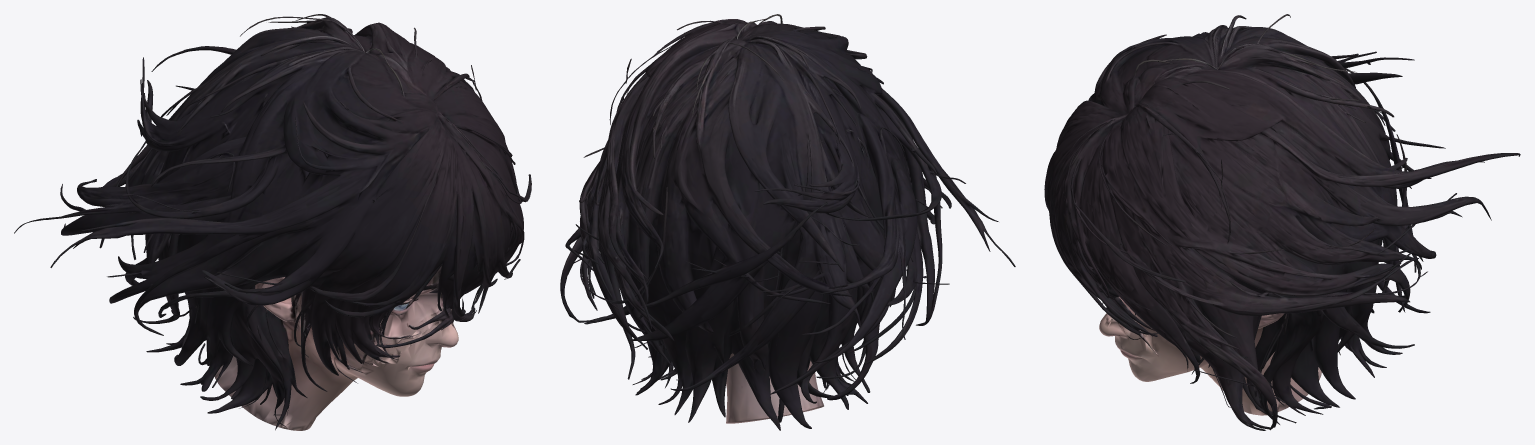
File: head.glb
3 views of the same model, side by side, from view 1: azimuth 30°, elevation 25°; view 2: azimuth 150°, elevation 25°; view 3: azimuth 270°, elevation 25° (orthographic). The views are drawn at different scales.
Visible parts, largest first — view 1: tripo_node_9e7974b8-3f49-4e68-8bba-398b5cad29e0; view 2: tripo_node_9e7974b8-3f49-4e68-8bba-398b5cad29e0; view 3: tripo_node_9e7974b8-3f49-4e68-8bba-398b5cad29e0.
Boxes of the visible parts, box(x1,y1,x2,y2) form: tripo_node_9e7974b8-3f49-4e68-8bba-398b5cad29e0: box(14, 14, 531, 430); tripo_node_9e7974b8-3f49-4e68-8bba-398b5cad29e0: box(560, 14, 1015, 430); tripo_node_9e7974b8-3f49-4e68-8bba-398b5cad29e0: box(1044, 14, 1520, 430).
Size of the model in its own units: 0.9243 by 0.7652 by 0.8556.
Materials: 1 (1 with a texture image).
